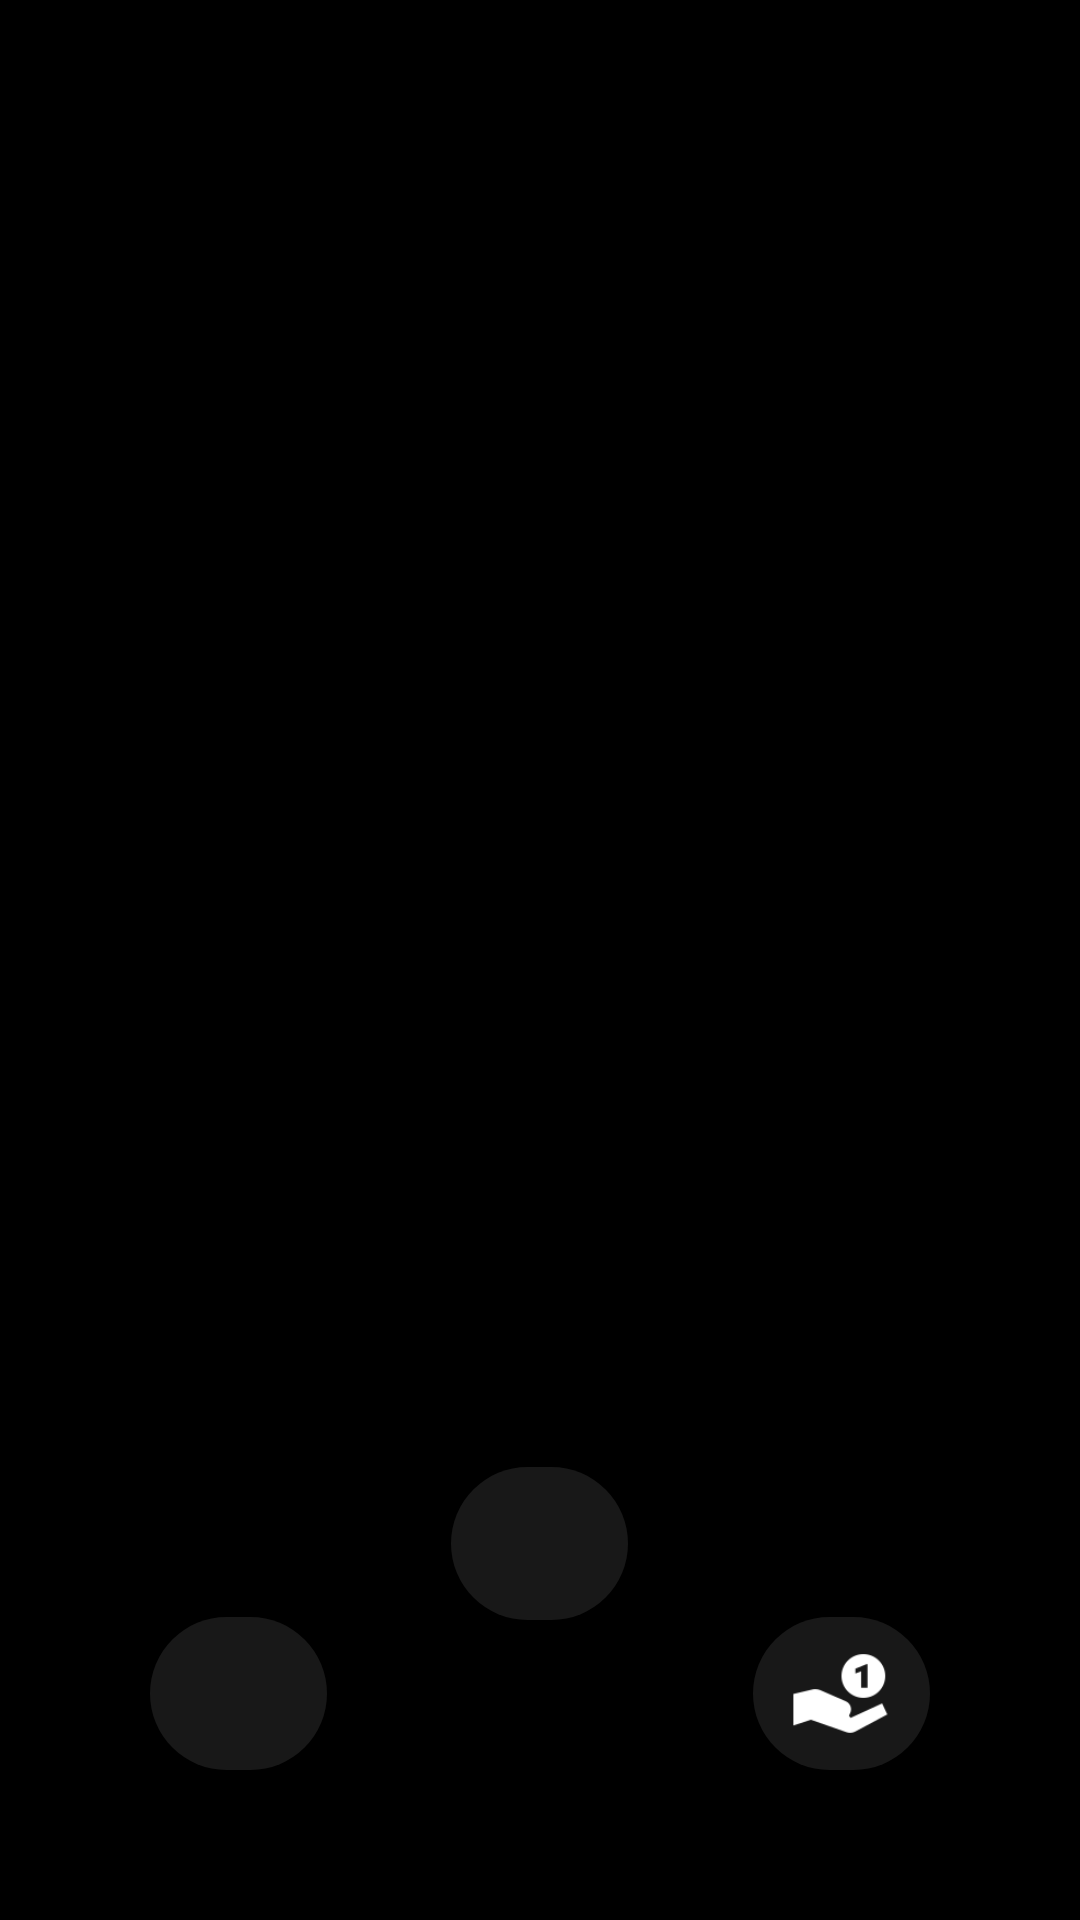

Icons on this 1080px x 1920px Android screen, each with its box as (x1, y1, x2, y2):
get: (793, 1654, 888, 1733)
